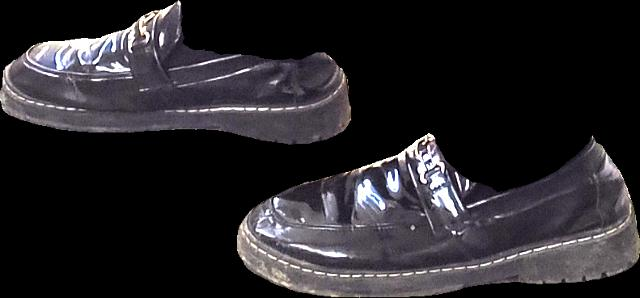blackshoes: (238, 134, 639, 297)
